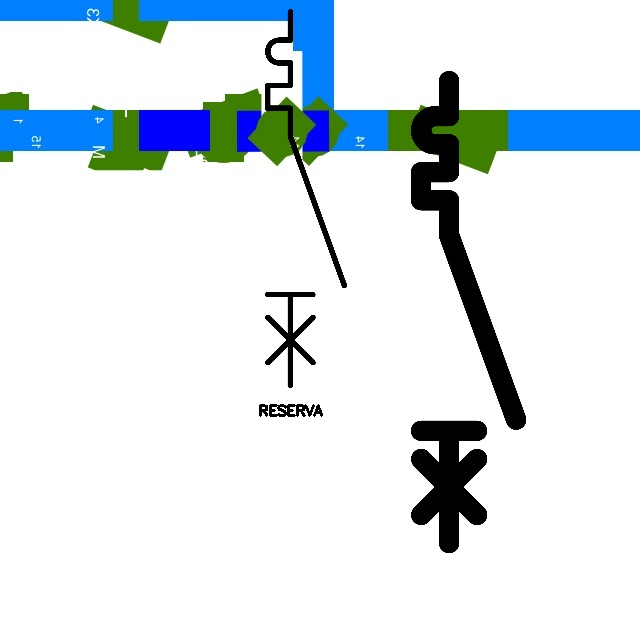interruptor_termomagnetico: (409, 69, 528, 554), (258, 2, 354, 395)
